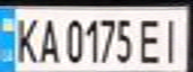0: (63, 15, 84, 64)
1: (81, 15, 100, 64)
5: (115, 15, 139, 64)
7: (97, 15, 118, 64)
A: (33, 13, 60, 64)
E: (136, 15, 166, 65)
I: (157, 12, 187, 64)
K: (9, 12, 42, 64)
